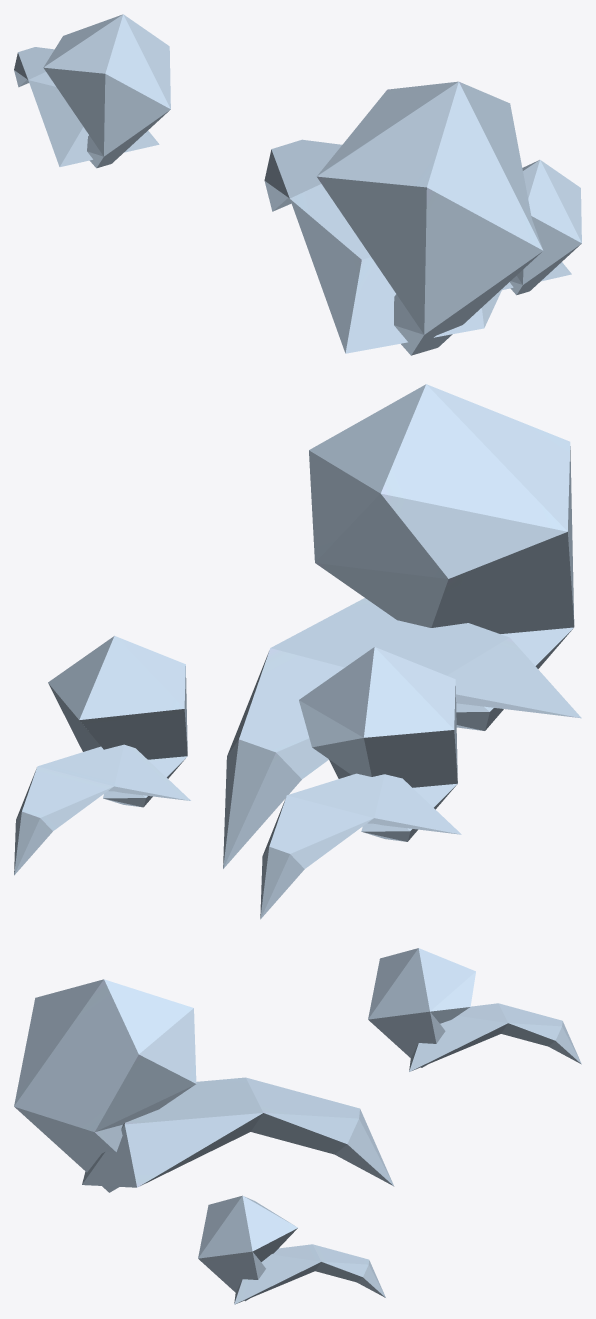
File: awan.fbx
3 views of the same model, one above another, from view 1: azimuth 30°, elevation 25°; view 2: azimuth 150°, elevation 25°; view 3: azimuth 270°, elevation 25° (orthographic). The views are drawn at different scales.
Parts seen in each view (by area): view 1: Sphere.000; view 2: Sphere.000; view 3: Sphere.000.
Boxes of the visible parts, left/top/right/bottom form: Sphere.000: left=14, top=14, right=581, bottom=355; Sphere.000: left=14, top=384, right=581, bottom=919; Sphere.000: left=14, top=948, right=581, bottom=1304.
Size of the model in its own units: 128 by 87.81 by 175.
